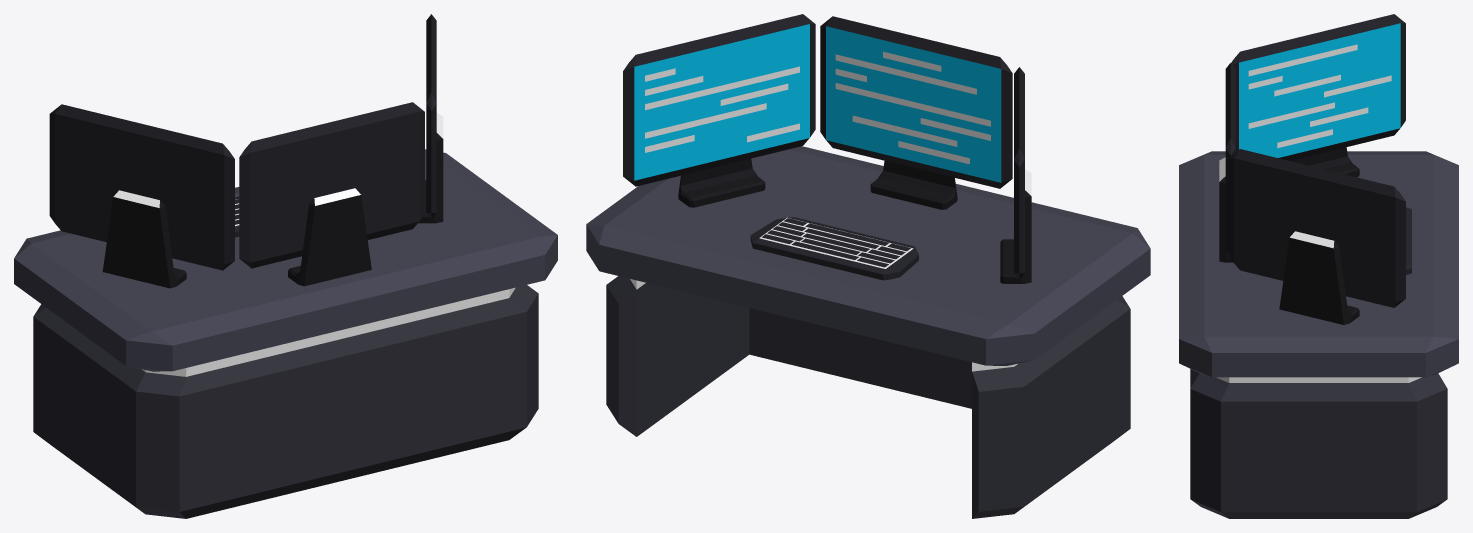
Rendered from Computer Desk 01.fbx.
The picture shows the model from 3 angles, left to right: view 1: azimuth 30°, elevation 25°; view 2: azimuth 150°, elevation 25°; view 3: azimuth 270°, elevation 25°; orthographic projection. The views are drawn at different scales.
Parts seen in each view (by area): view 1: Computer_Desk_01; view 2: Computer_Desk_01; view 3: Computer_Desk_01.
Boxes of the visible parts, left/top/right/bottom form: Computer_Desk_01: left=14, top=14, right=557, bottom=518; Computer_Desk_01: left=586, top=14, right=1150, bottom=518; Computer_Desk_01: left=1179, top=14, right=1458, bottom=518.
Bounding box in the file's own units: 199 × 152 × 117.
